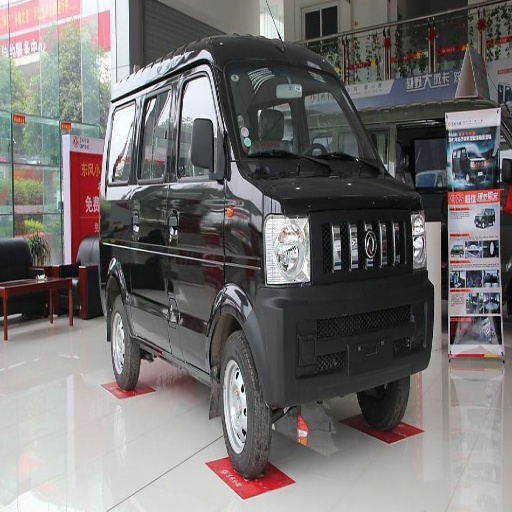front_bumper: (267, 212, 434, 388)
front_right_door: (171, 62, 229, 212)
front_right_light: (261, 212, 311, 282)
trunk: (113, 248, 224, 357), (234, 286, 282, 382)
